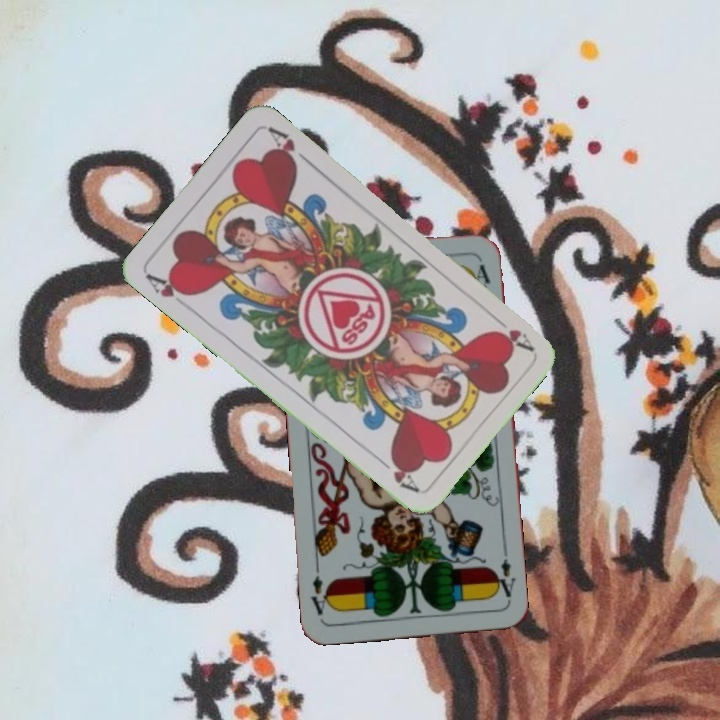EA: (490, 546, 518, 599)
HA: (142, 269, 197, 312), (486, 309, 535, 354)
